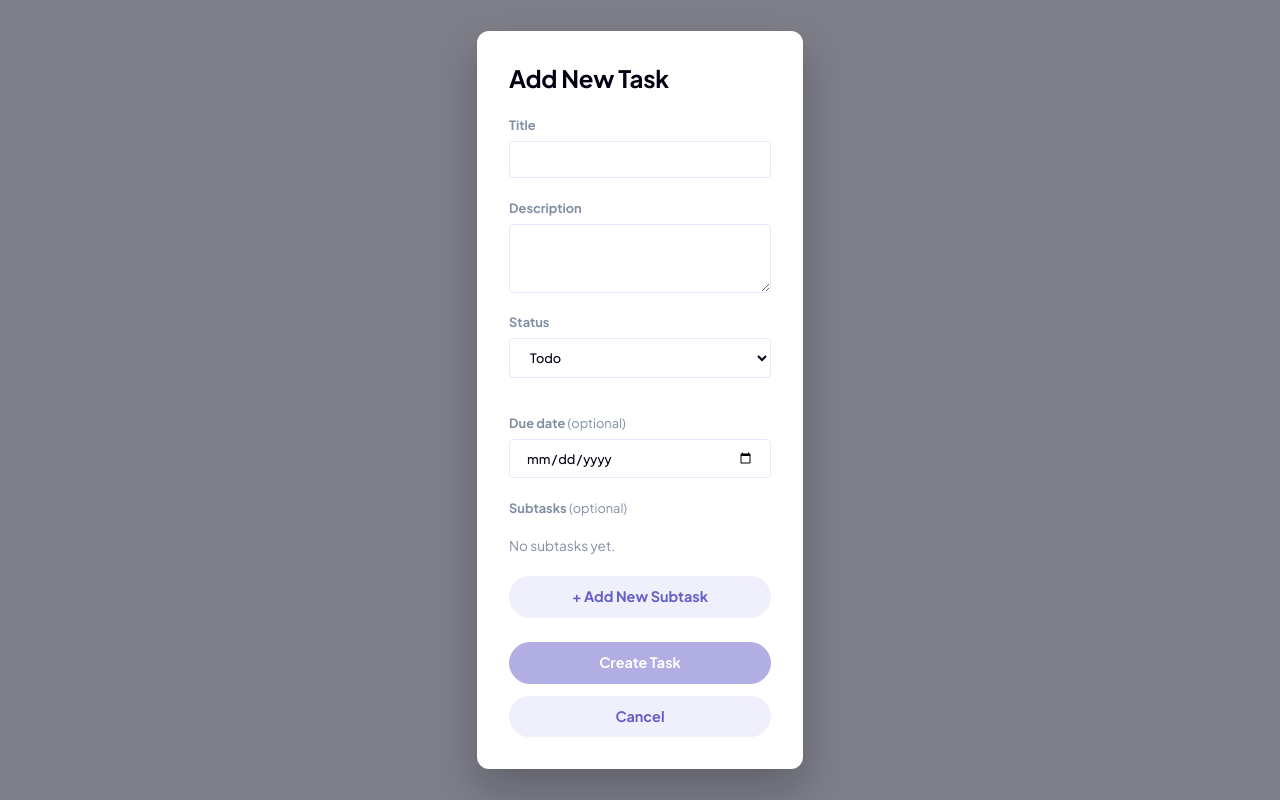
AddTaskComponent (TaskService mocked) › on failure stays put, shows the message, and keeps what the user typed
In the field with id "task-title": (640, 159) [509,141,771,178], type "Write tests"
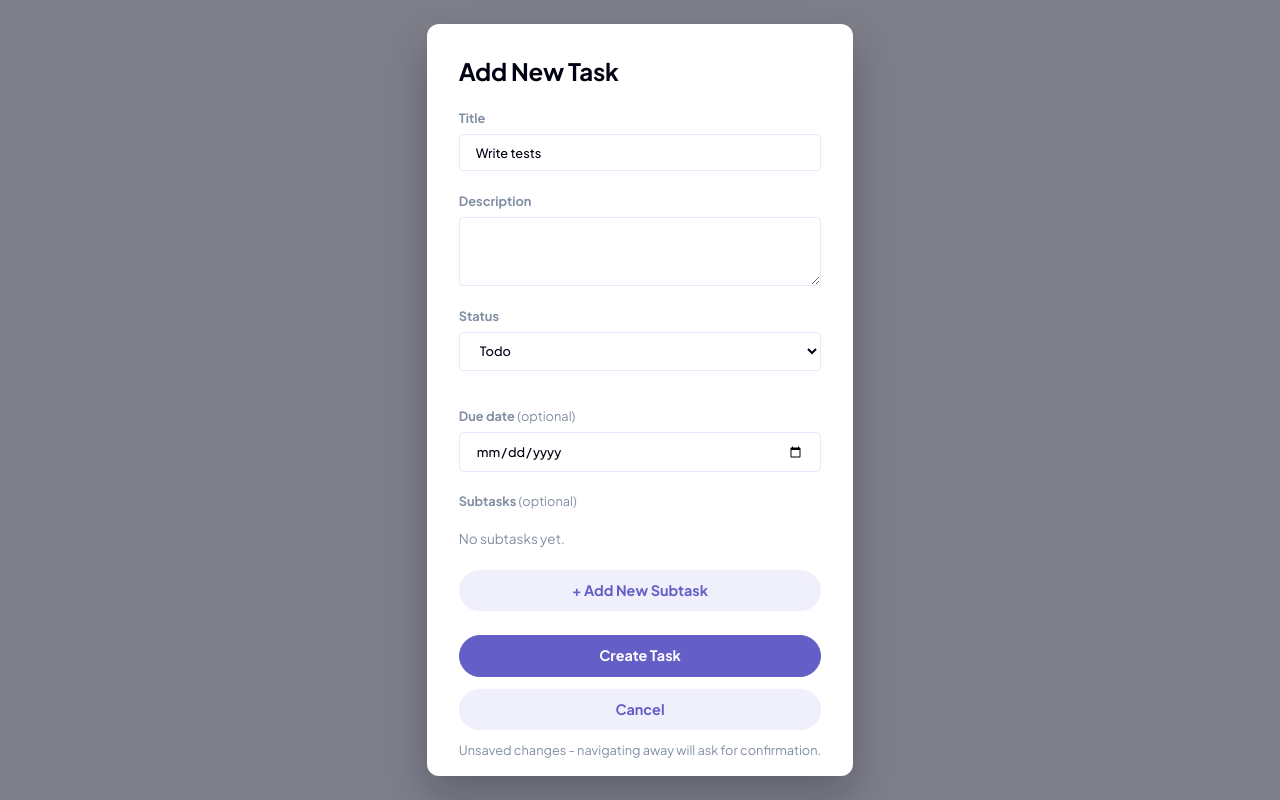
Submit the form, box [427,24,853,776]
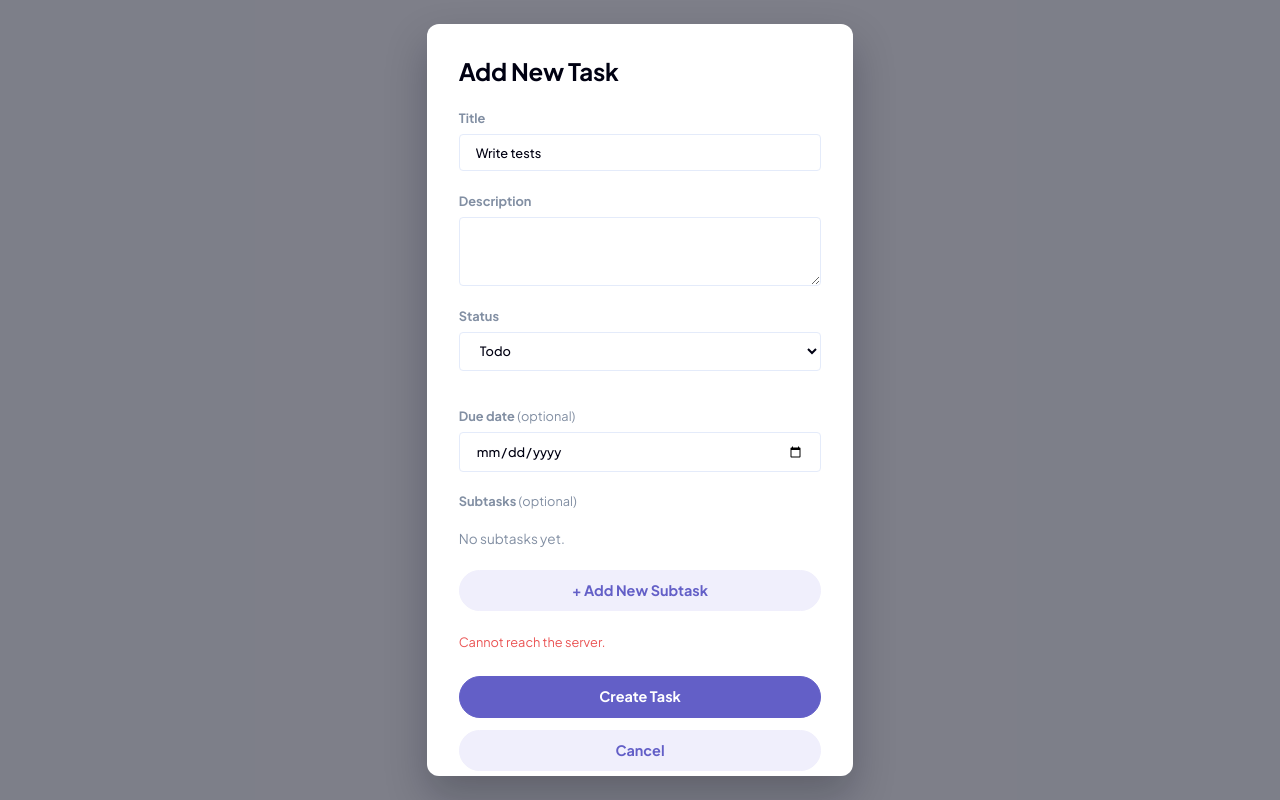
expect the message with class "field-error" reads "Cannot reach the server.": met, box [459,634,606,650]
